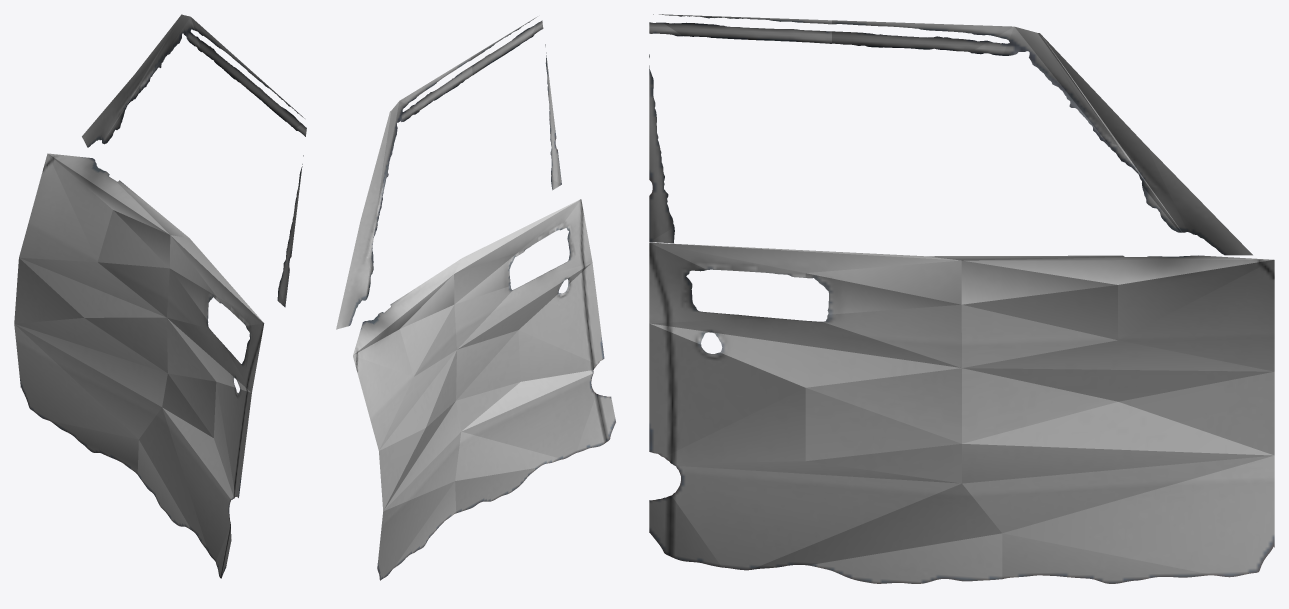
Rendered from SM_AbandonedCar_Door_FL_Broken.fbx.
3 views of the same model, side by side, from view 1: azimuth 30°, elevation 25°; view 2: azimuth 150°, elevation 25°; view 3: azimuth 270°, elevation 25° (orthographic). The views are drawn at different scales.
Visible parts, largest first — view 1: SM_AbandonedCar_Door_FL_Broken; view 2: SM_AbandonedCar_Door_FL_Broken; view 3: SM_AbandonedCar_Door_FL_Broken.
Boxes of the visible parts, x1,y1,x2,y2 form: SM_AbandonedCar_Door_FL_Broken: (14, 14, 306, 578); SM_AbandonedCar_Door_FL_Broken: (336, 16, 615, 580); SM_AbandonedCar_Door_FL_Broken: (649, 14, 1274, 583).
Bounding box in the file's own units: 24.59 × 99.5 × 93.
